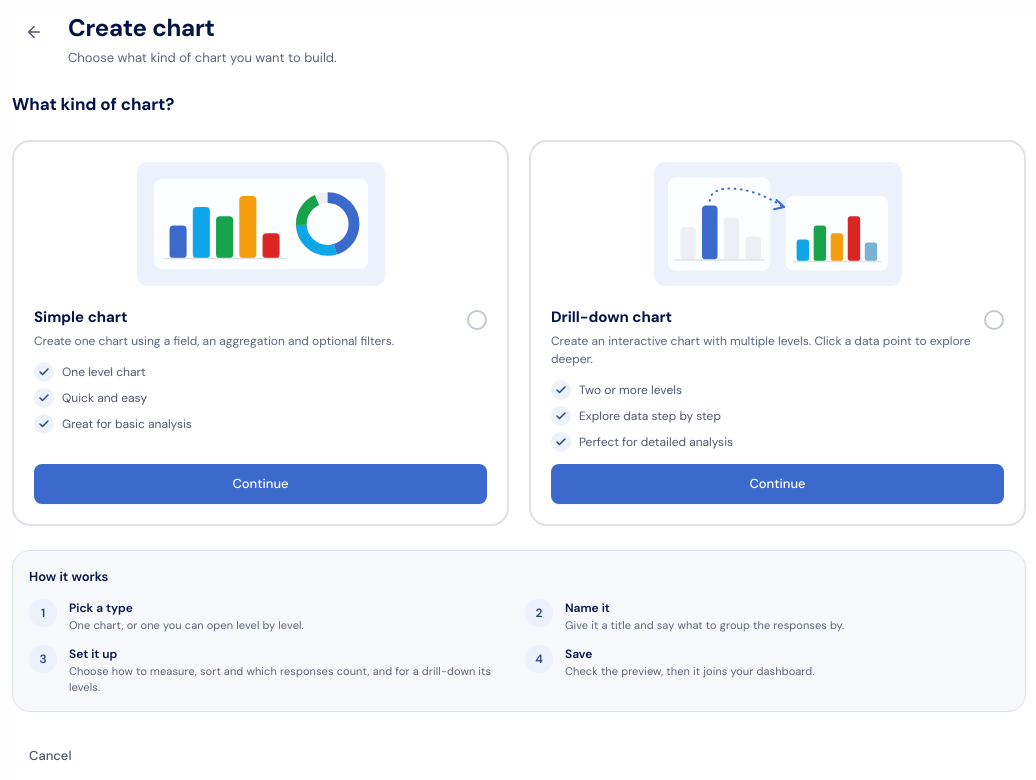
step 3: configure › a number filter takes a number, and the title says what the filters are
Expected: the radio button labelled "Simple chart" is shown, [12,140,509,526]
Click the button "Continue" below "Great for basic analysis".
click(260, 484)  # box [34,464,487,504]
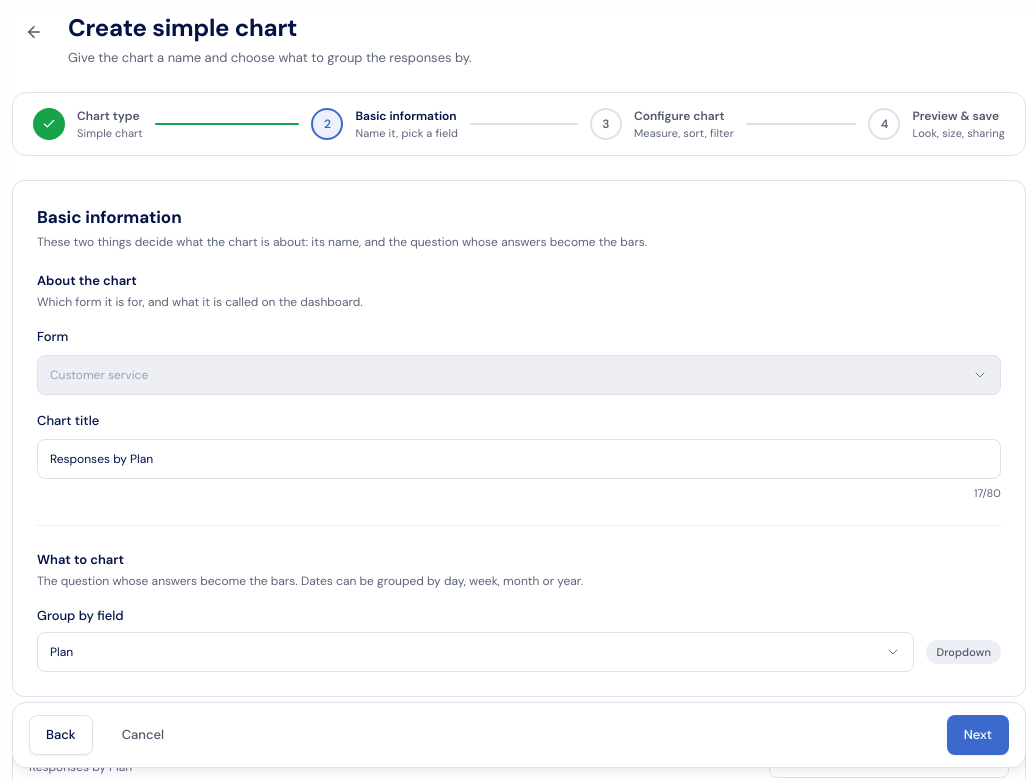
Result: the field labelled "Chart title" is shown at [37,439,1001,479]
Click the button "Next".
click(978, 735)  # box [947,715,1009,755]
(page scrolled)
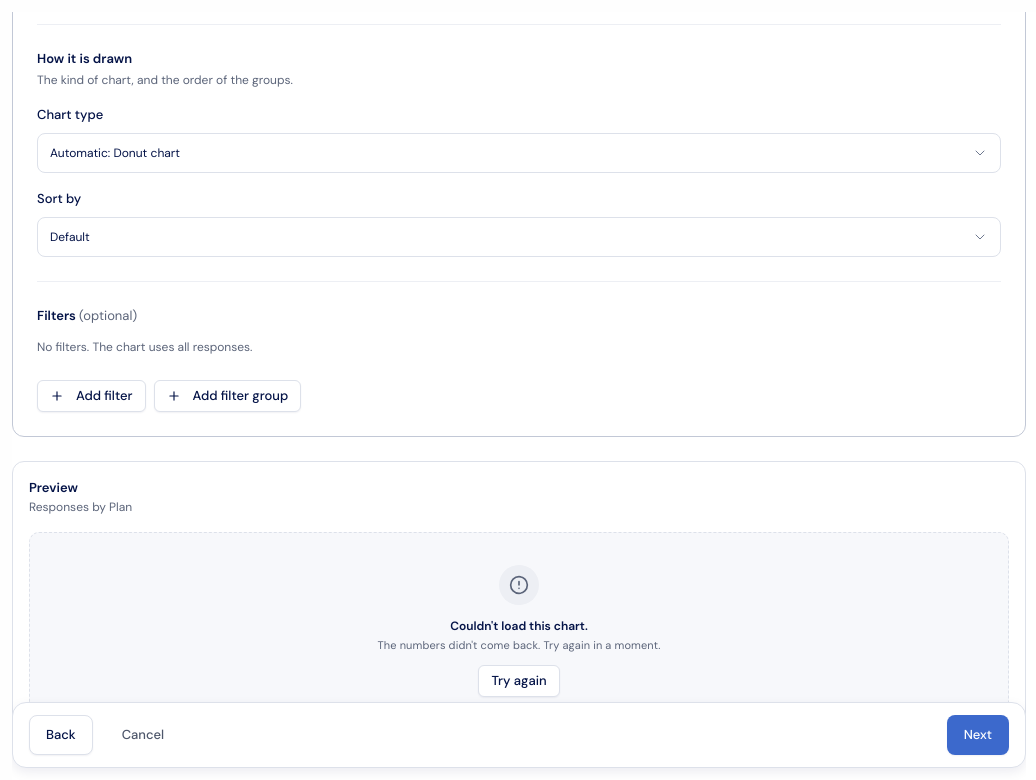
Click the button "Add filter".
click(91, 396)  # box [37,380,146,412]
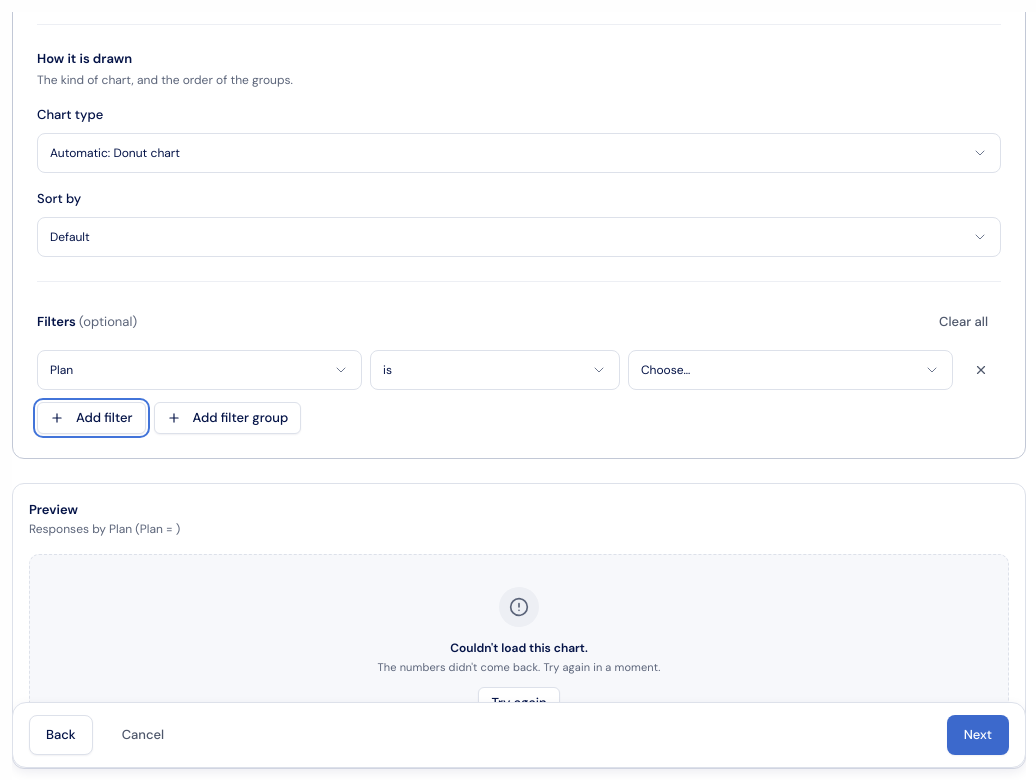
Select "Age" in the dropdown named "Filter 1: field" at (200, 370), box [37,350,362,390]
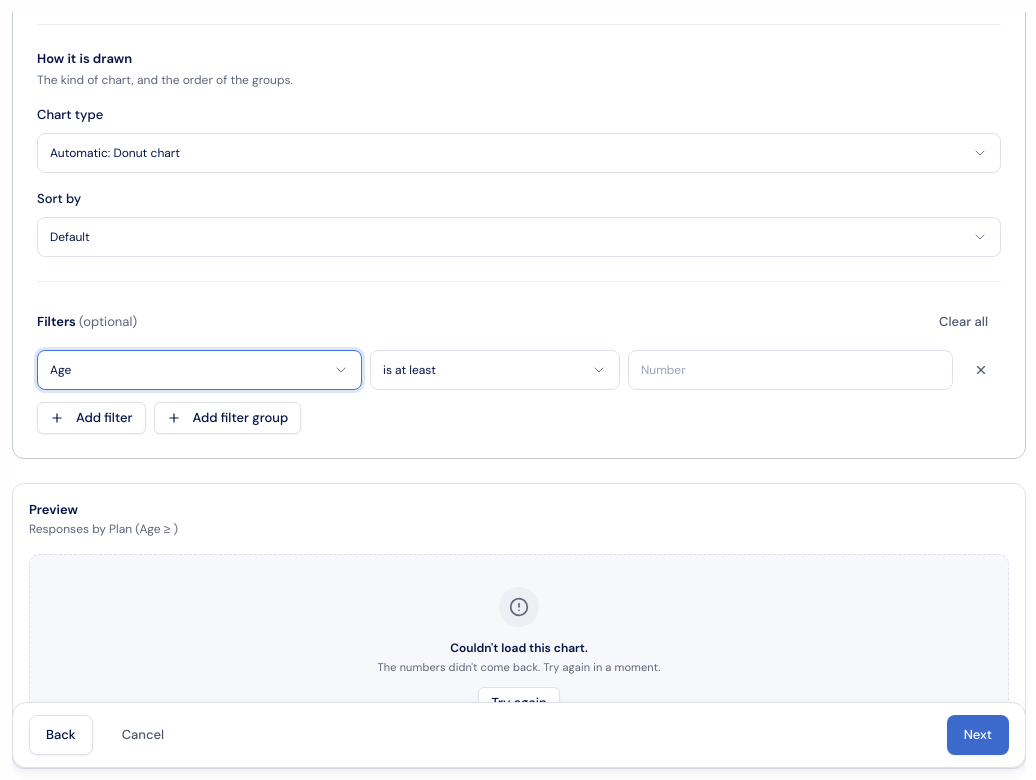
Result: the dropdown named "Filter 1: condition" shows "is at least" at [370,350,620,390]
Type "25" into the number field named "Filter 1: value".
click(790, 370); type("25")  # box [628,350,953,390]
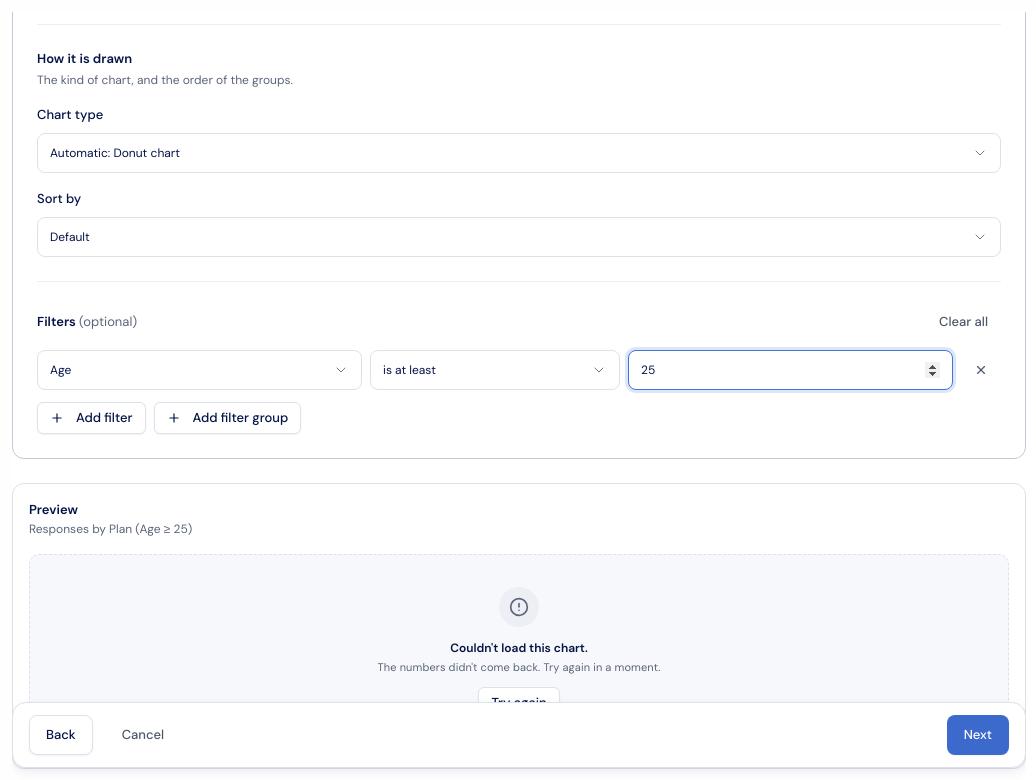
Select "is greater than" in the dropdown named "Filter 1: condition" at (495, 370), box [370,350,620,390]
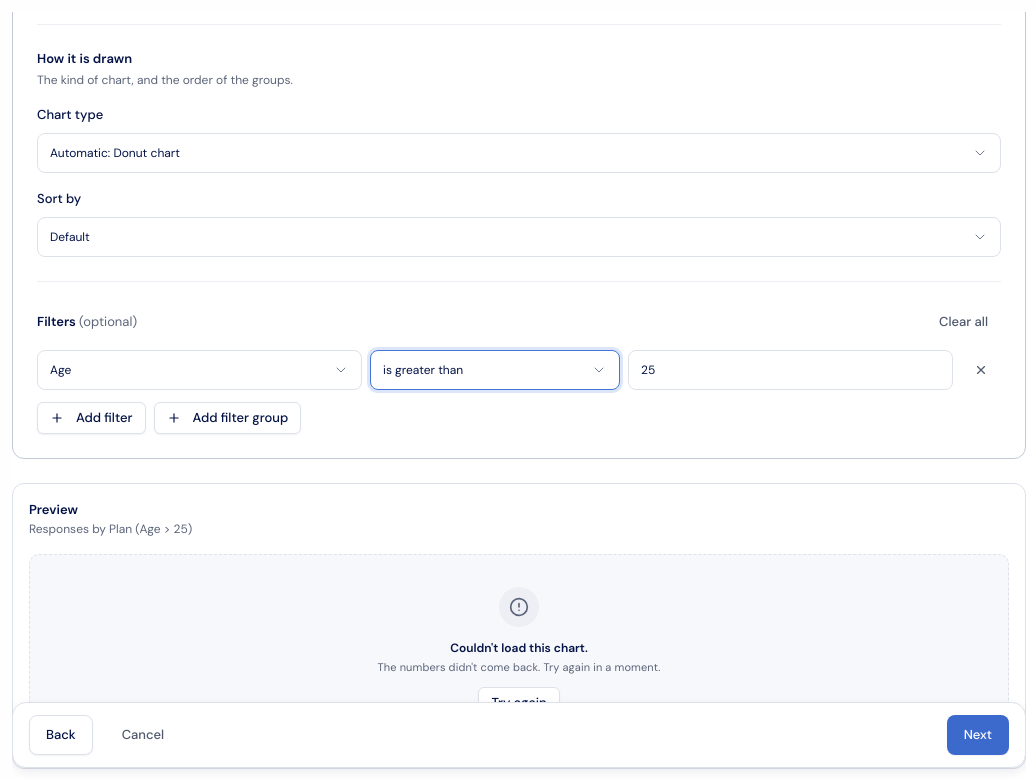
Result: the text "Responses by Plan (Age > 25)" is shown at [29,521,192,537]
